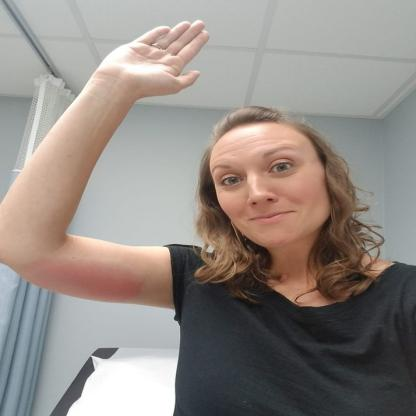Wasp: (46, 266, 146, 301)
